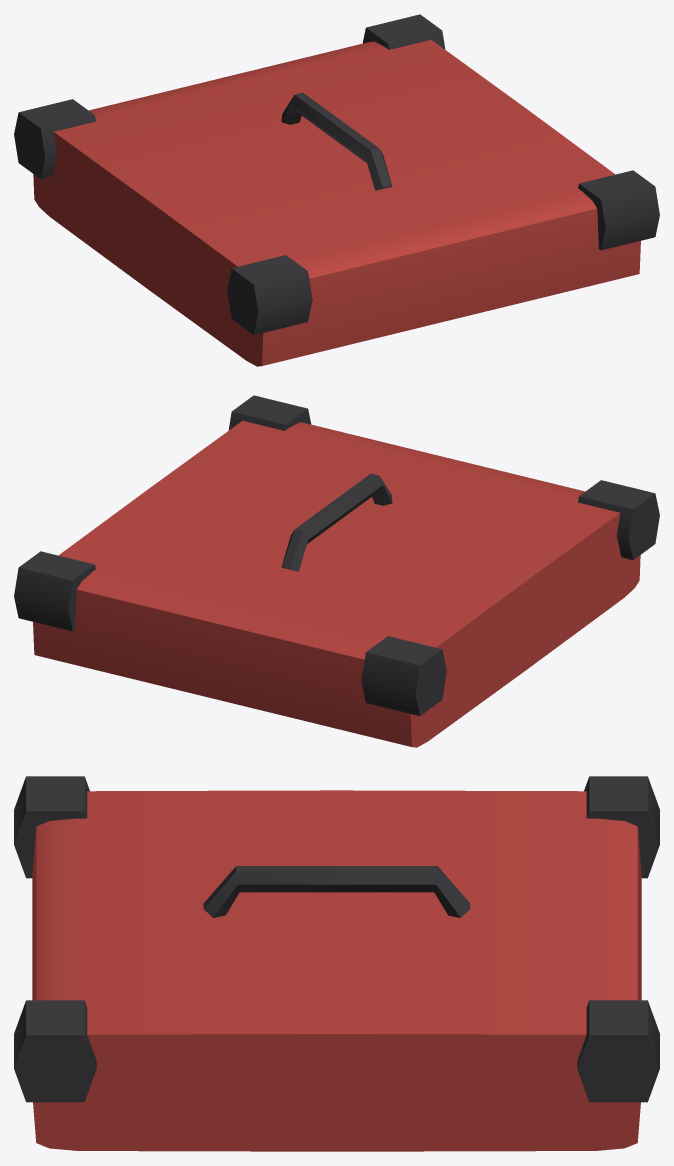
File: alu_top_lid.glb
The picture shows the model from 3 angles, top to bottom: view 1: azimuth 30°, elevation 25°; view 2: azimuth 150°, elevation 25°; view 3: azimuth 270°, elevation 25°; orthographic projection. The views are drawn at different scales.
Parts seen in each view (by area): view 1: alu_top_lid; view 2: alu_top_lid; view 3: alu_top_lid.
Boxes of the visible parts, left/top/right/bottom form: alu_top_lid: left=14, top=14, right=659, bottom=366; alu_top_lid: left=14, top=395, right=659, bottom=747; alu_top_lid: left=14, top=776, right=659, bottom=1151.
Bounding box in the file's own units: 0.37 × 0.1072 × 0.39.
